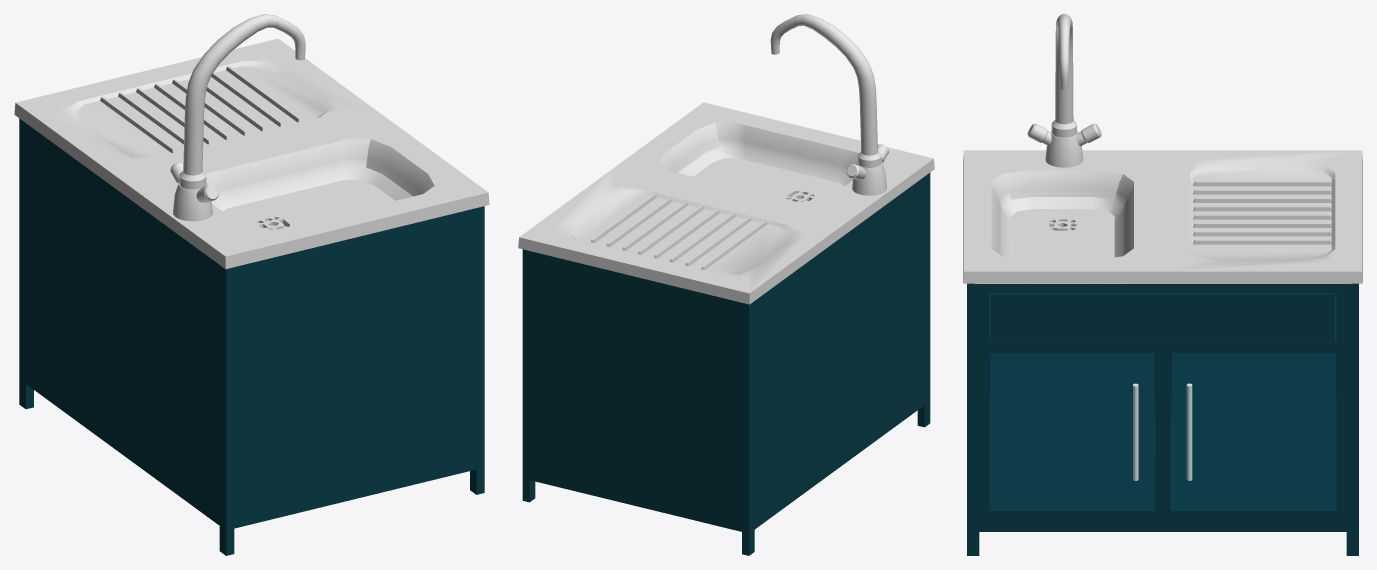
Rendered from sink.fbx.
The picture shows the model from 3 angles, left to right: view 1: azimuth 30°, elevation 25°; view 2: azimuth 150°, elevation 25°; view 3: azimuth 270°, elevation 25°; orthographic projection. The views are drawn at different scales.
Parts seen in each view (by area): view 1: Cube.005; view 2: Cube.005; view 3: Cube.005.
Boxes of the visible parts, left/top/right/bottom form: Cube.005: left=14, top=14, right=489, bottom=555; Cube.005: left=518, top=14, right=934, bottom=555; Cube.005: left=963, top=14, right=1362, bottom=555.
Bounding box in the file's own units: 102 × 177 × 140.
Materials: 4 (3 with a texture image).
